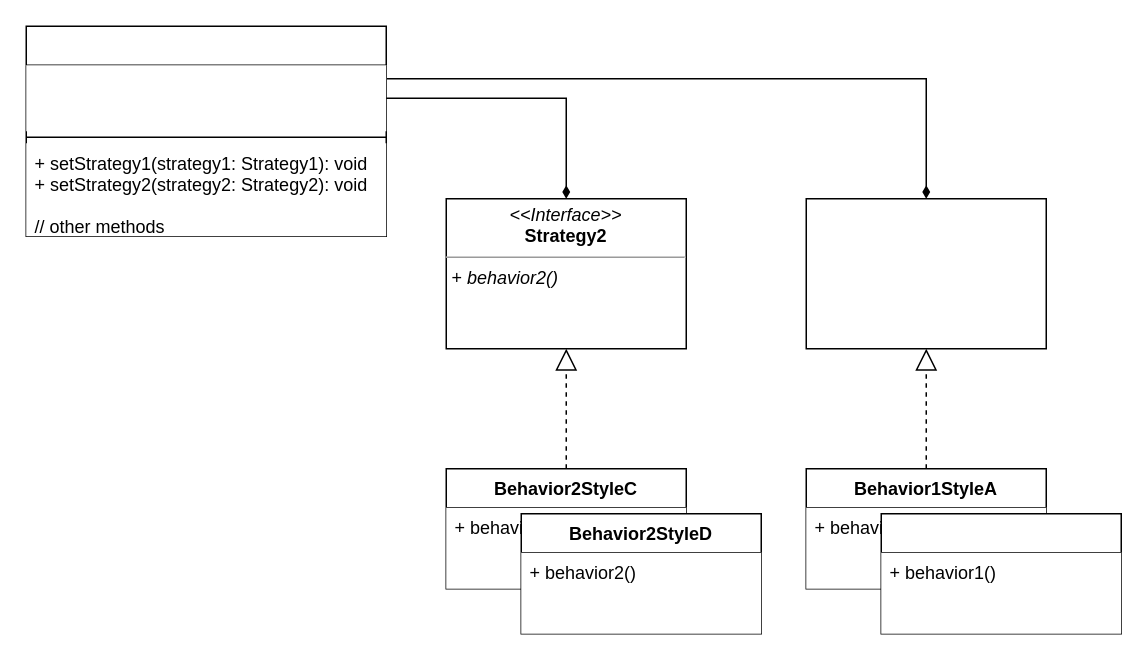
Image size: 1148x665. Some labels were removed from this diagram. The shapes that lost their labels are listed below. From the top down, each one's box as (x1, y1, x2, y2) in pixels, then its label:
(26, 64, 386, 130): - strategy1: Strategy1 - strategy2: Strategy2
(25, 25, 386, 236): ConcreteClass
(805, 197, 1046, 349): <<Interface>> Strategy1 + behavior1()
(880, 512, 1121, 634): Behavior1StyleB
